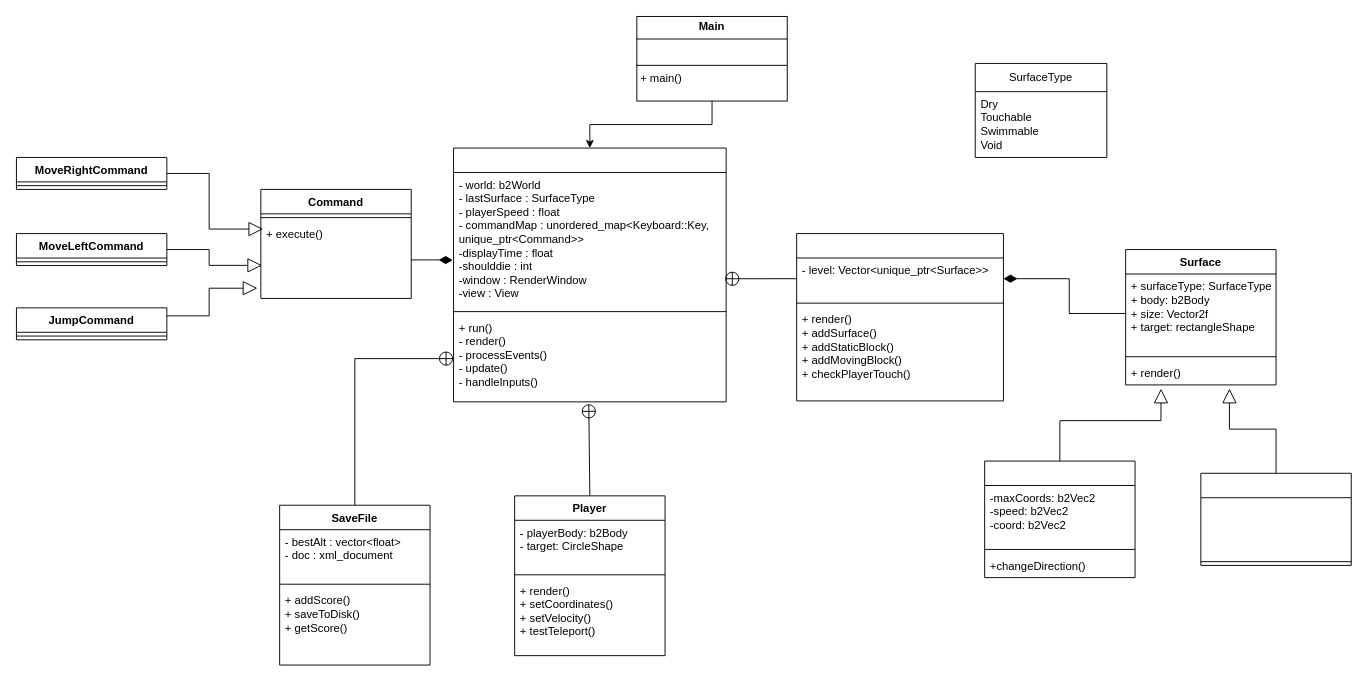
This 1368x684 diagram has some shape labels left out. Each missing label, with the box of its shape:
GameManager: (453, 147, 726, 402)
MovingSurface: (984, 460, 1135, 578)
Panel: (796, 233, 1003, 401)
StaticSurface: (1200, 472, 1351, 565)
